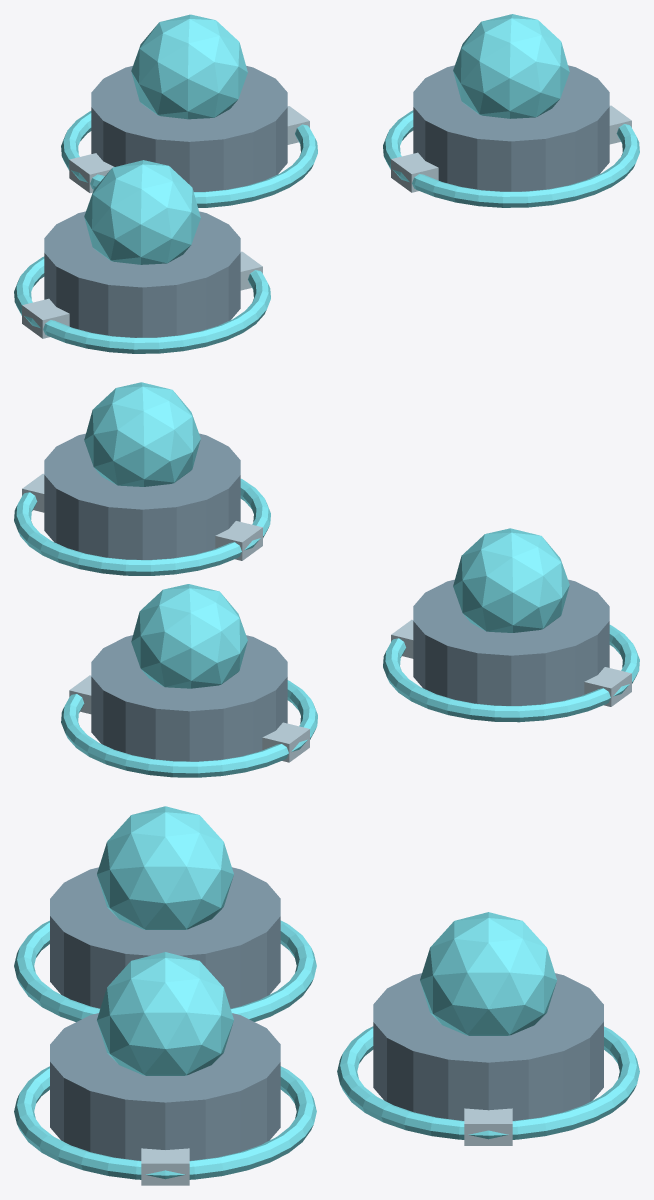
The model's file is aether_drone_swarm.glb.
3 renders of one model, top to bottom at view 1: azimuth 30°, elevation 25°; view 2: azimuth 150°, elevation 25°; view 3: azimuth 270°, elevation 25°, orthographic. The views are drawn at different scales.
Parts seen in each view (by area): view 1: hover_carapace_5, hover_carapace_0, hover_carapace_10, hover_ai_eye_1, hover_ai_eye_6, hover_ai_eye_11, rotor_ring_7, rotor_ring_2, rotor_ring_12, rotor_fin_3, rotor_fin_8, rotor_fin_13 (+3 smaller); view 2: hover_carapace_5, hover_carapace_10, hover_carapace_0, hover_ai_eye_11, hover_ai_eye_6, hover_ai_eye_1, rotor_ring_12, rotor_ring_7, rotor_ring_2, rotor_fin_8, rotor_fin_3, rotor_fin_13; view 3: hover_carapace_10, hover_carapace_5, hover_carapace_0, hover_ai_eye_6, hover_ai_eye_11, hover_ai_eye_1, rotor_ring_7, rotor_ring_12, rotor_ring_2, rotor_fin_9, rotor_fin_14.
Boxes of the visible parts, x1,y1,x2,y2 form: hover_carapace_5: (413,65,609,191); hover_carapace_0: (44,211,240,337); hover_carapace_10: (91,65,287,191); hover_ai_eye_1: (84,160,200,264); hover_ai_eye_6: (453,14,569,118); hover_ai_eye_11: (131,14,247,119); rotor_ring_7: (383,110,639,207); rotor_ring_2: (14,256,270,353); rotor_ring_12: (61,111,317,207); rotor_fin_3: (22,298,69,338); rotor_fin_8: (391,152,438,192); rotor_fin_13: (69,153,113,193); hover_carapace_5: (44,433,240,559); hover_carapace_10: (91,635,287,761); hover_carapace_0: (413,579,609,705); hover_ai_eye_11: (131,584,247,688); hover_ai_eye_6: (84,382,200,486); hover_ai_eye_1: (453,528,569,632); rotor_ring_12: (61,680,317,777); rotor_ring_7: (14,478,270,575); rotor_ring_2: (383,625,639,722); rotor_fin_8: (215,521,262,560); rotor_fin_3: (584,667,631,706); rotor_fin_13: (262,722,309,762); hover_carapace_10: (373,973,603,1120); hover_carapace_5: (50,1013,280,1160); hover_carapace_0: (50,867,280,1008); hover_ai_eye_6: (97,952,233,1075); hover_ai_eye_11: (420,912,556,1035); hover_ai_eye_1: (97,806,233,929); rotor_ring_7: (14,1066,316,1179); rotor_ring_12: (337,1026,639,1139); rotor_ring_2: (14,920,316,1021); rotor_fin_9: (141,1148,189,1185); rotor_fin_14: (464,1108,512,1145).
Bounding box in the file's own units: 1.99 × 0.63 × 1.55.
